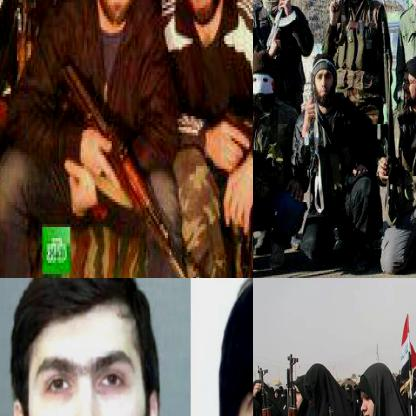rifle: (60, 60, 193, 277), (375, 16, 396, 216), (270, 351, 304, 415), (253, 364, 285, 415), (253, 92, 260, 277)
